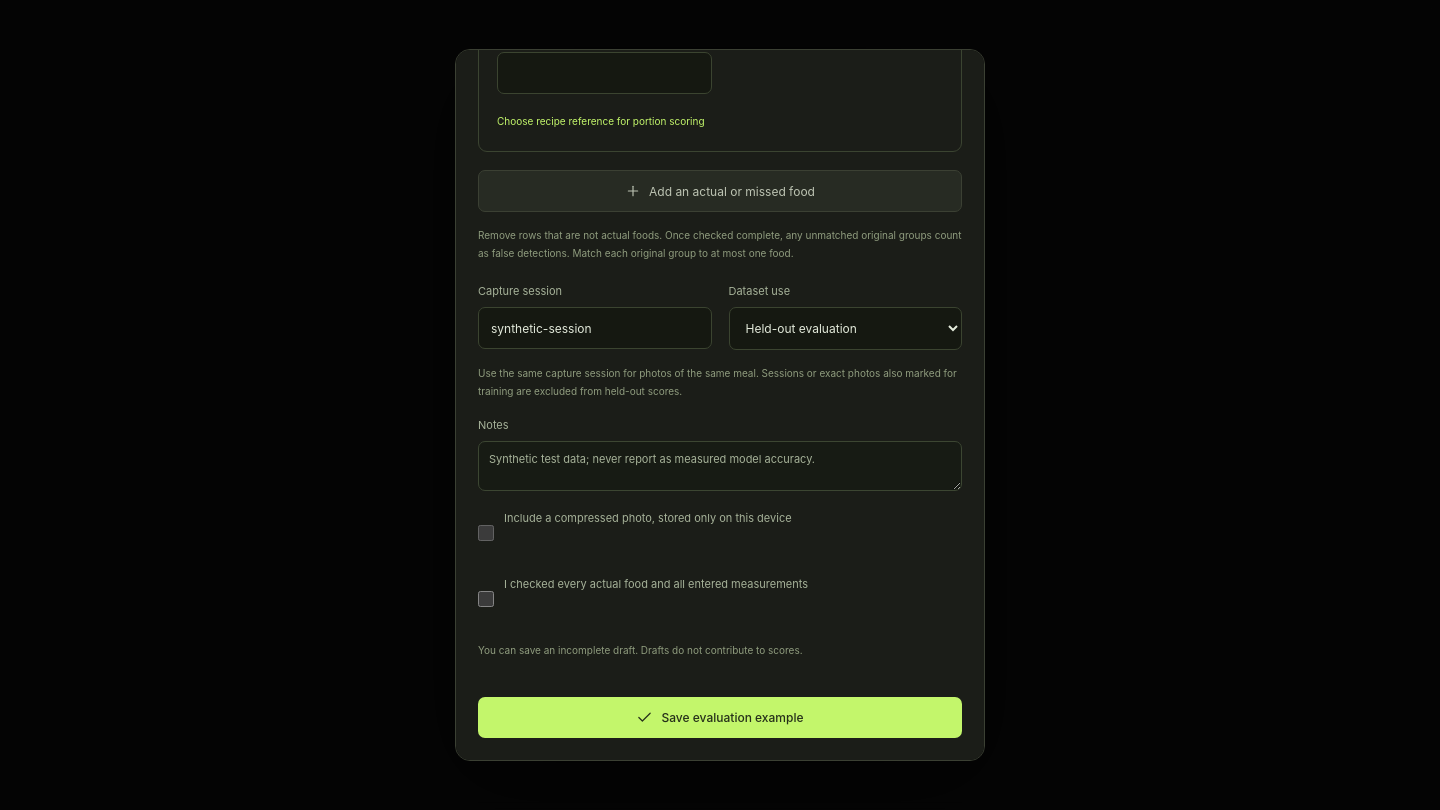
Test case: measured-meal annotation › requires an explicit actual family and valid name before saving
This screenshot has width=1440, height=810.
(page scrolled)
Click the button "Save evaluation example" at coordinates (720, 718), box [478,697,962,738]
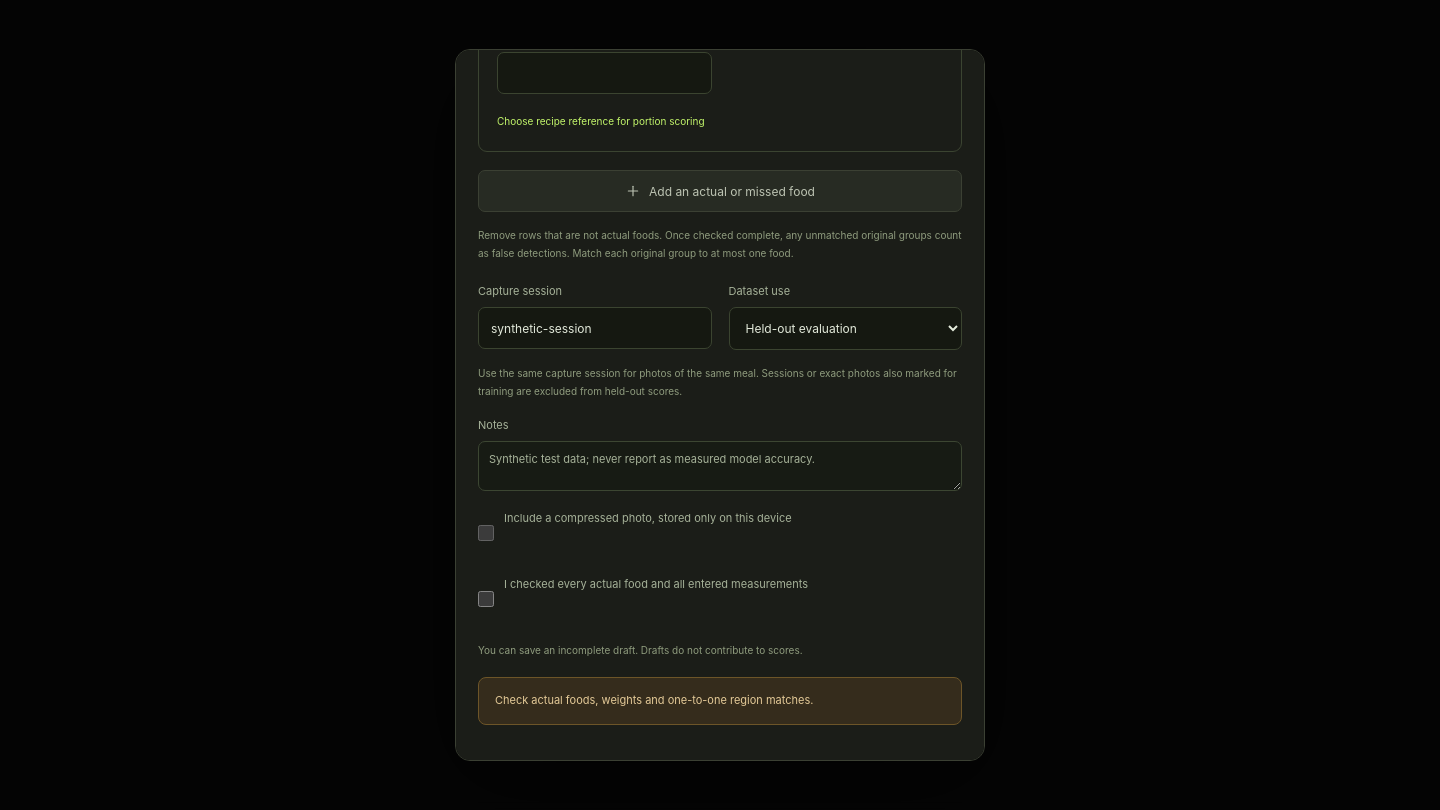
Now the message "Check actual foods, weights and one-to-one region matches." is shown, box [478,677,962,725]
